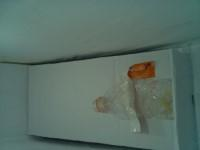bottle: (92, 82, 175, 113)
